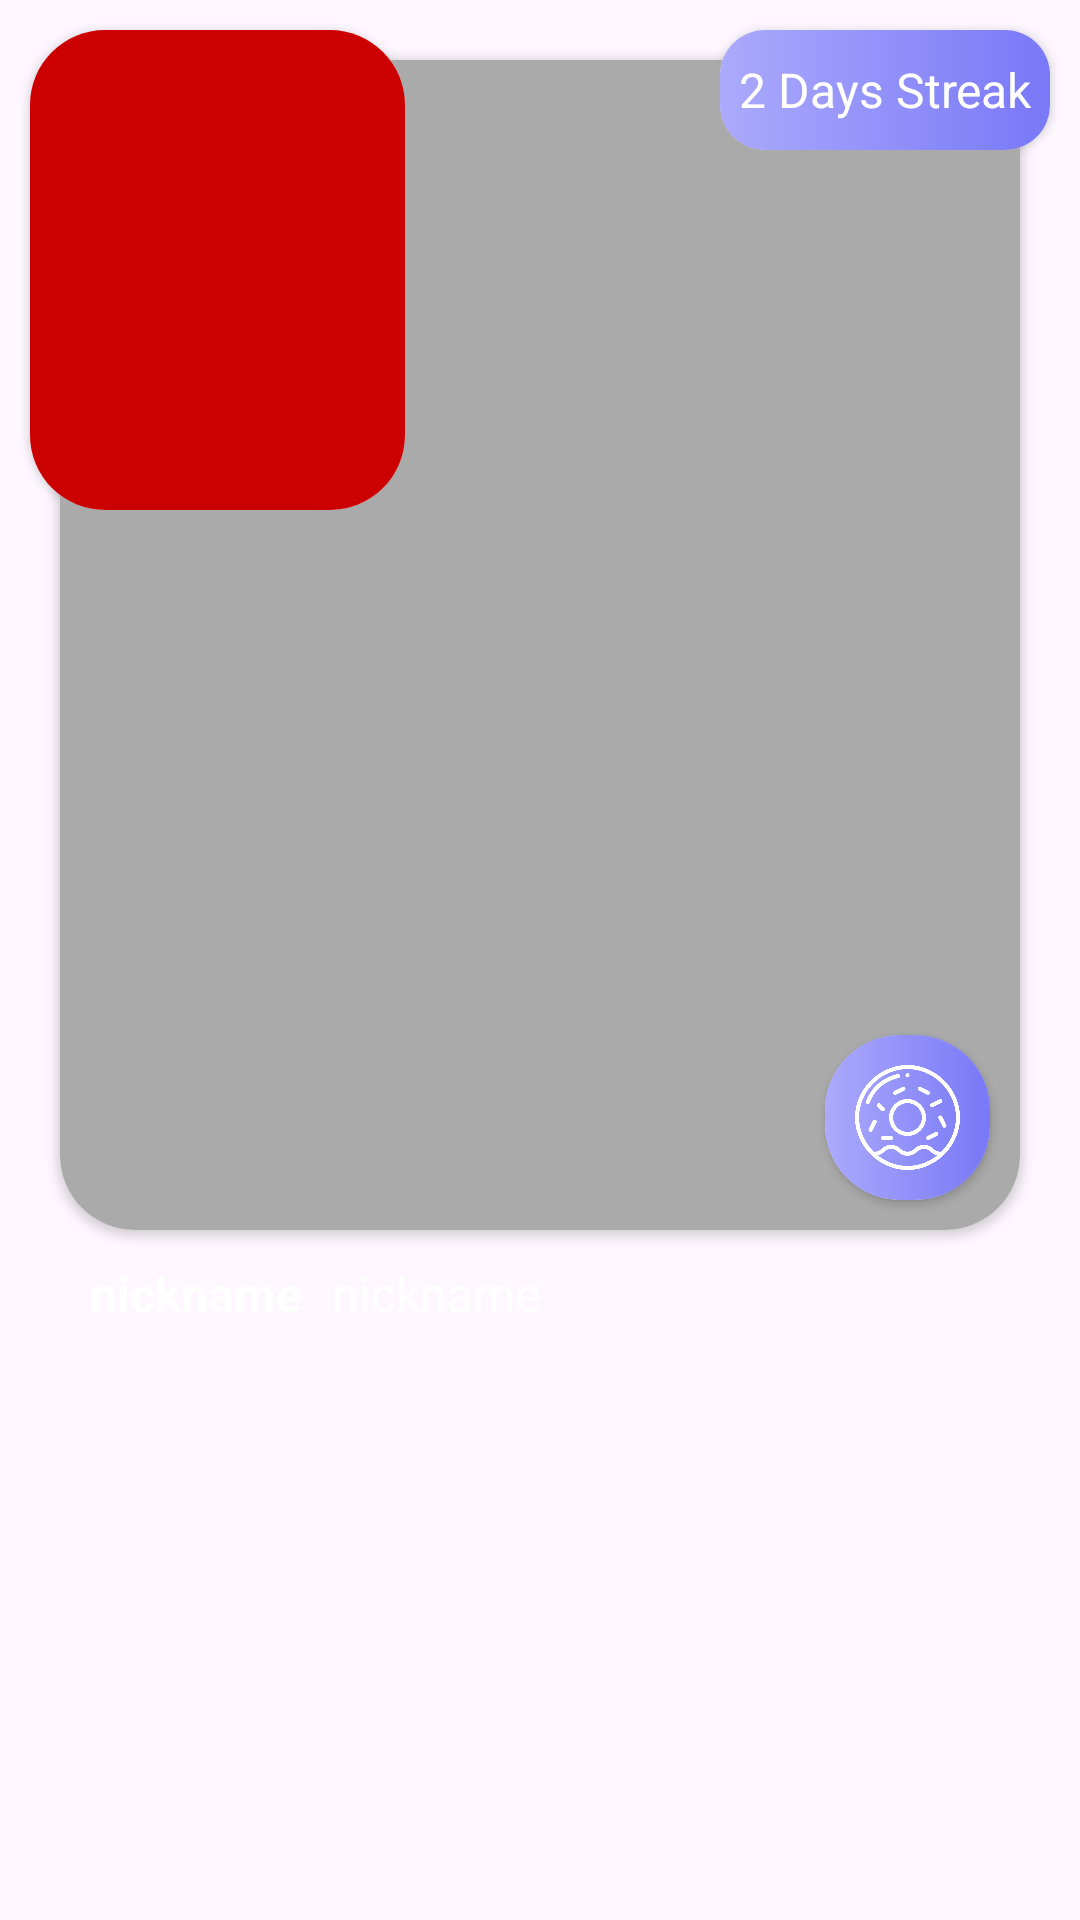

Named icons in this screenshot (1080*1920) and their centers, (x,y):
donut: (907,1117)
